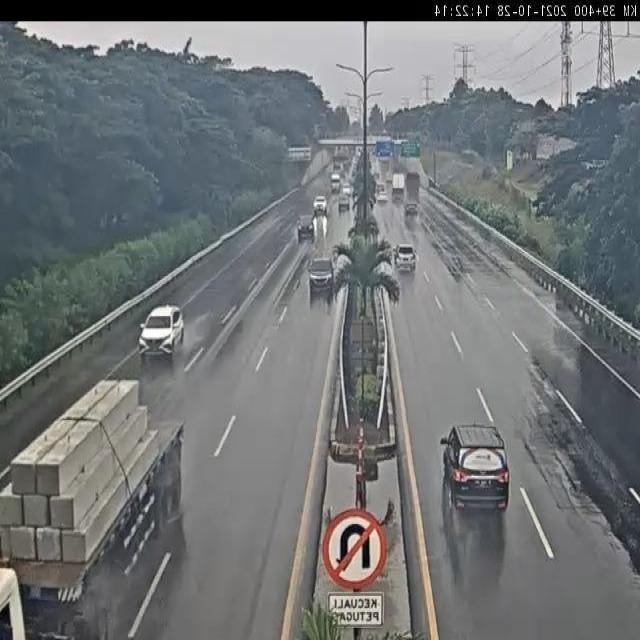Car: (438, 421, 510, 515), (138, 303, 185, 361), (308, 256, 334, 296), (393, 242, 418, 271), (296, 214, 315, 242), (312, 195, 328, 214), (337, 196, 350, 213), (405, 201, 419, 215), (377, 190, 388, 203), (376, 182, 386, 193)
Truck: (0, 376, 186, 640), (406, 170, 420, 192), (392, 172, 404, 190)
